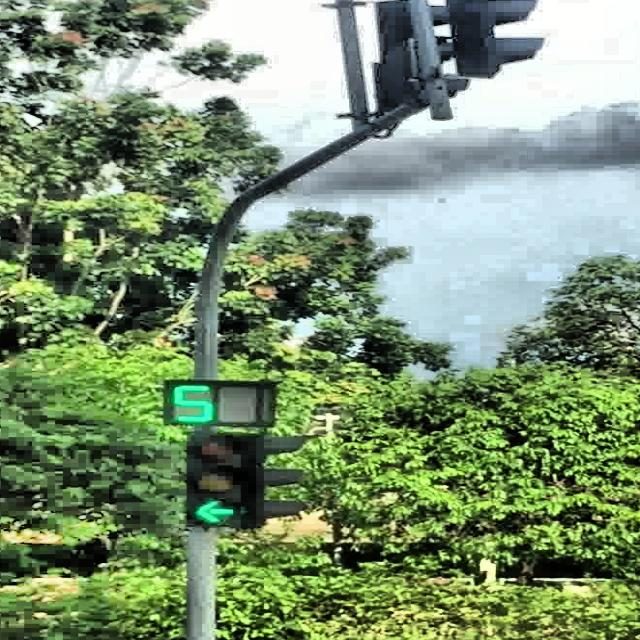green: (188, 432, 248, 526)
